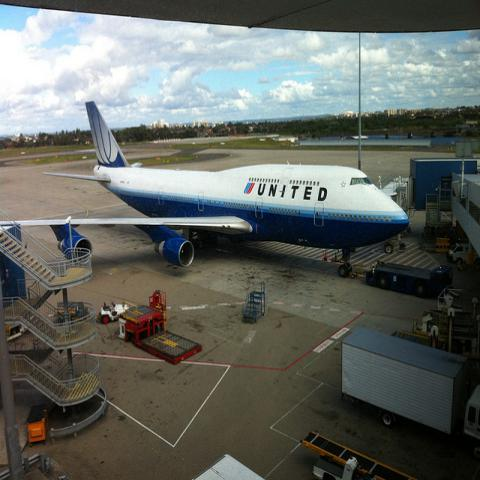truck: (341, 326, 479, 460), (446, 242, 476, 265)
